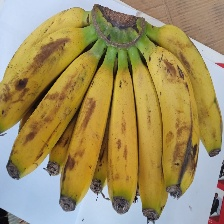banana: (35, 42, 173, 222)
